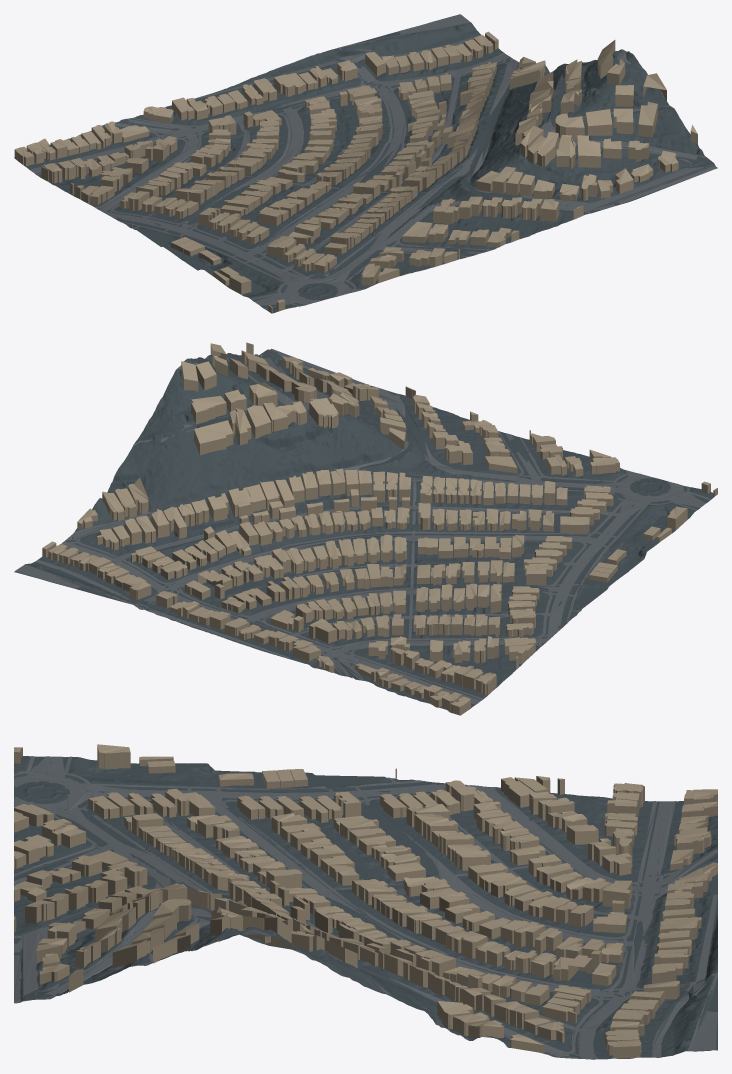
File: epsg26910-1425-10878.lod0.glb
The picture shows the model from 3 angles, top to bottom: view 1: azimuth 30°, elevation 25°; view 2: azimuth 150°, elevation 25°; view 3: azimuth 270°, elevation 25°; orthographic projection. The views are drawn at different scales.
Visible parts, largest first — view 1: epsg26910-1425-10878-lod0; view 2: epsg26910-1425-10878-lod0; view 3: epsg26910-1425-10878-lod0.
Boxes of the visible parts, x1=… form: epsg26910-1425-10878-lod0: x1=14, y1=14, x2=717, y2=313; epsg26910-1425-10878-lod0: x1=14, y1=342, x2=717, y2=715; epsg26910-1425-10878-lod0: x1=14, y1=744, x2=717, y2=1059.
Bounding box in the file's own units: 384 × 107 × 384.
